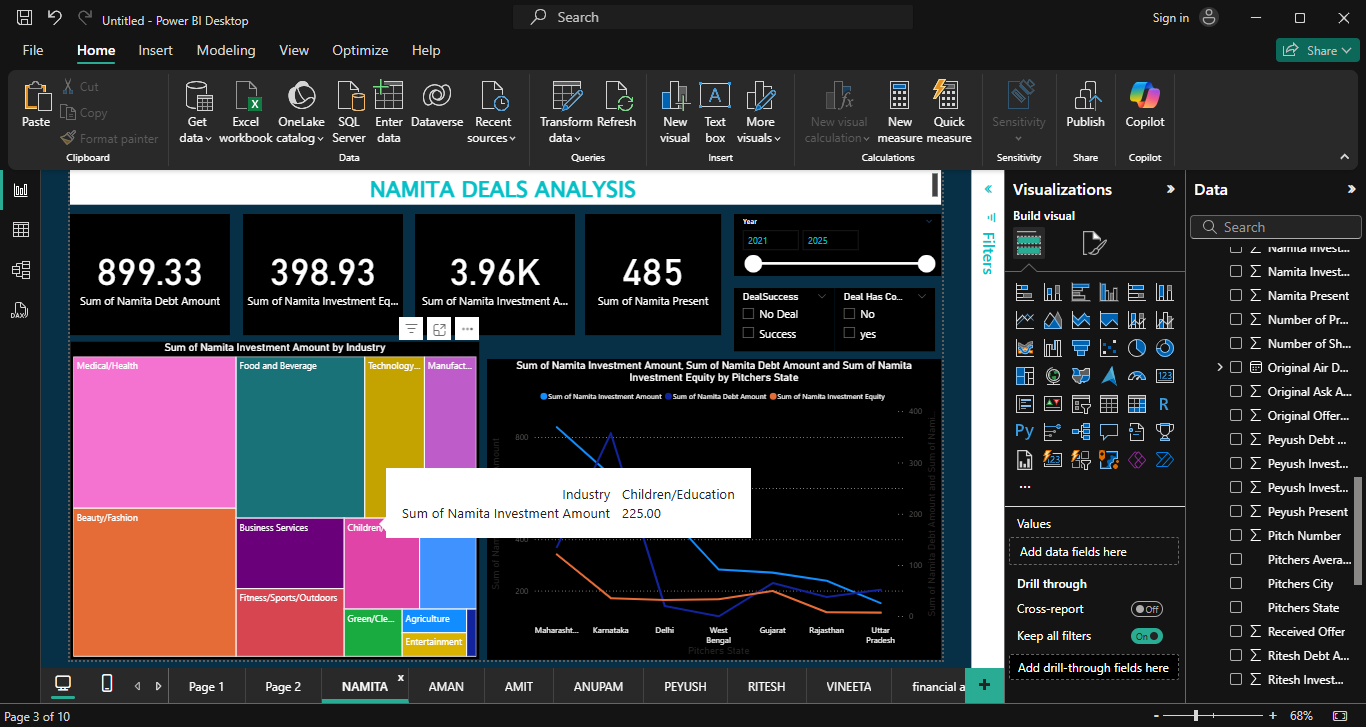

What the dashboard file says about the page in this screenshot:
{"tool":"powerbi","page":{"name":"NAMITA","canvas":[1280,720],"ordinal":2},"visuals":[{"type":"card","fields":{"Values":["Shark_Tank_India_Cleaned.Namita Debt Amount"]},"box":[0,64.7,235.1,177.8],"z":0},{"type":"card","fields":{"Values":["Shark_Tank_India_Cleaned.Namita Investment Equity"]},"box":[254.2,64.7,235.1,177.8],"z":1000},{"type":"card","fields":{"Values":["Shark_Tank_India_Cleaned.Namita Investment Amount"]},"box":[506.9,64.7,235.1,177.8],"z":2000},{"type":"card","fields":{"Values":["Shark_Tank_India_Cleaned.Namita Present"]},"box":[756.7,64.7,199.8,177.8],"z":3000},{"type":"slicer","fields":{"Values":["Shark_Tank_India_Cleaned.Year"]},"box":[975.7,64.7,304.2,89.6],"z":4000},{"type":"textbox","box":[0,0,1279.8,51.4],"z":5000},{"type":"treemap","fields":{"Group":["Shark_Tank_India_Cleaned.Industry"],"Values":["Shark_Tank_India_Cleaned.Namita Investment Amount"]},"box":[0,251.3,602.4,468.7],"z":6000},{"type":"slicer","fields":{"Values":["Shark_Tank_India_Cleaned.DealSuccess"]},"box":[975.7,173.4,148.4,92.6],"z":7000},{"type":"slicer","fields":{"Values":["Shark_Tank_India_Cleaned.Deal Has Conditions"]},"box":[1124.1,173.4,146.9,92.6],"z":8000},{"type":"lineChart","fields":{"Y":["Shark_Tank_India_Cleaned.Namita Investment Amount"],"Y2":["Shark_Tank_India_Cleaned.Namita Debt Amount","Shark_Tank_India_Cleaned.Namita Investment Equity"],"Category":["Shark_Tank_India_Cleaned.Pitchers State"]},"box":[612.7,277.7,667.1,442.3],"z":9000}]}

Visuals, with their boxes on the page's 1280x720 design canvas (x1, y1, x2, y2). These are canvas units, not pixel positions in the 1366x727 screenshot, which may show the page scaled, cropped or inside an application window:
card - Shark_Tank_India_Cleaned.Namita Debt Amount: (x1=0, y1=65, x2=235, y2=242)
card - Shark_Tank_India_Cleaned.Namita Investment Equity: (x1=254, y1=65, x2=489, y2=242)
card - Shark_Tank_India_Cleaned.Namita Investment Amount: (x1=507, y1=65, x2=742, y2=242)
card - Shark_Tank_India_Cleaned.Namita Present: (x1=757, y1=65, x2=956, y2=242)
slicer - Shark_Tank_India_Cleaned.Year: (x1=976, y1=65, x2=1280, y2=154)
textbox: (x1=0, y1=0, x2=1280, y2=51)
treemap - Shark_Tank_India_Cleaned.Industry x Shark_Tank_India_Cleaned.Namita Investment Amount: (x1=0, y1=251, x2=602, y2=720)
slicer - Shark_Tank_India_Cleaned.DealSuccess: (x1=976, y1=173, x2=1124, y2=266)
slicer - Shark_Tank_India_Cleaned.Deal Has Conditions: (x1=1124, y1=173, x2=1271, y2=266)
lineChart - Shark_Tank_India_Cleaned.Namita Investment Amount x Shark_Tank_India_Cleaned.Namita Debt Amount: (x1=613, y1=278, x2=1280, y2=720)
